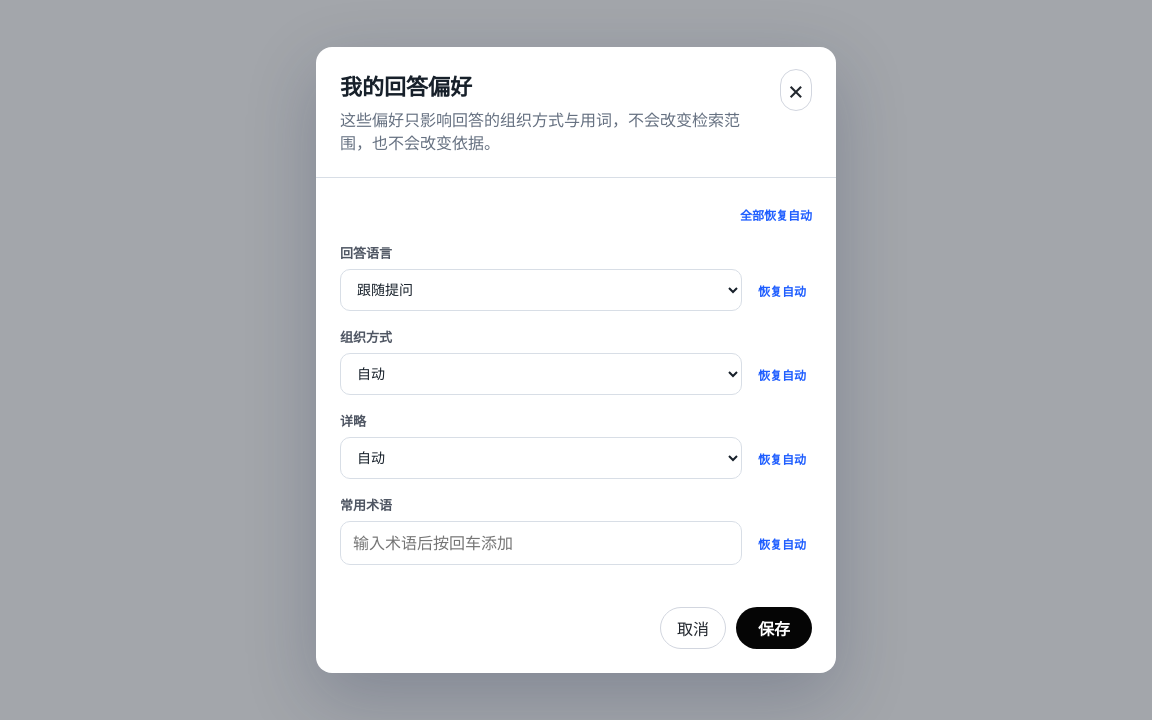
Scenario: 失败态:保存失败显示人话层错误文案,弹窗保持打开
The image size is (1152, 720).
Select "简明" in the dropdown named "详略": (541, 458) [340,437,742,479]
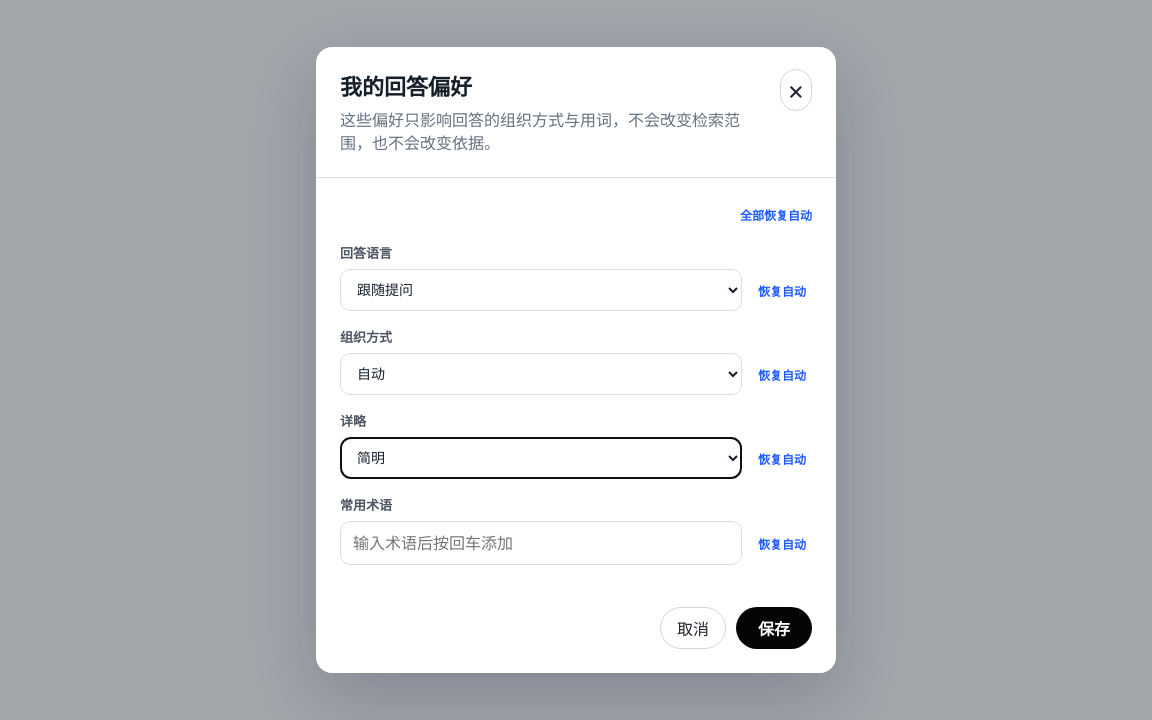
Click the button "保存": click(774, 628) [736,607,812,649]
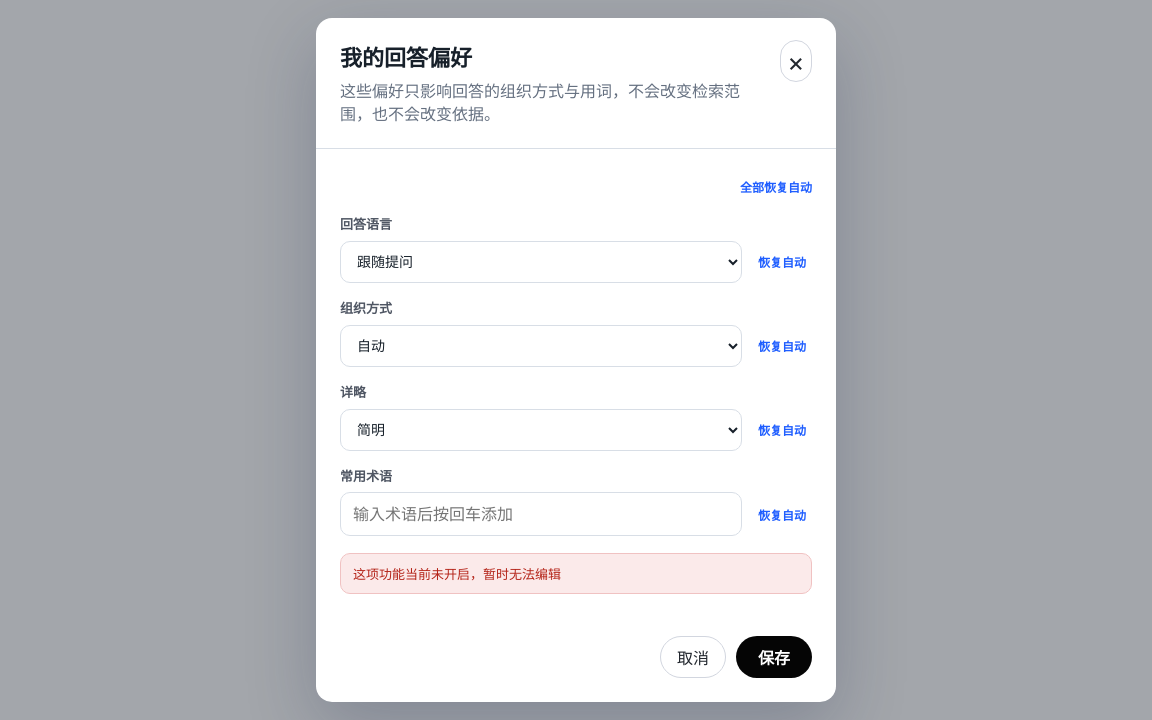
Check: the button "保存" is shown, box [736,636,812,678]
Check: the text "这项功能当前未开启，暂时无法编辑" is shown, box [340,553,812,594]
